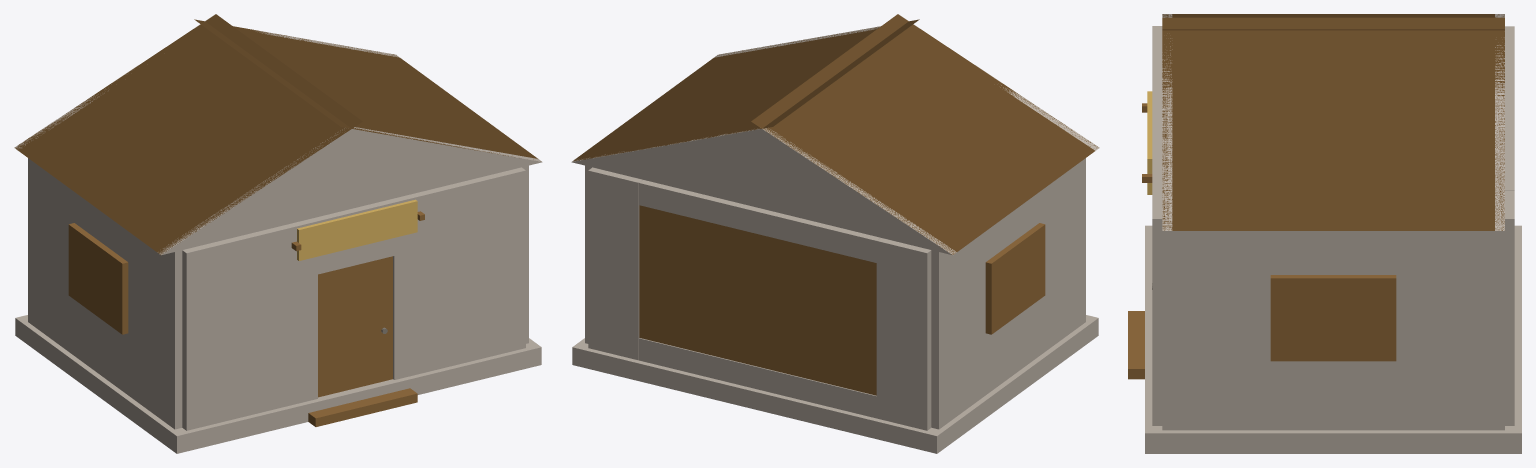
File: Merchant_Shop.fbx
The picture shows the model from 3 angles, left to right: view 1: azimuth 30°, elevation 25°; view 2: azimuth 150°, elevation 25°; view 3: azimuth 270°, elevation 25°; orthographic projection. The views are drawn at different scales.
Parts seen in each view (by area): view 1: Shop_Roof_L, Shop_Wall_F_L, Shop_Wall_F_R, Shop_Wall_L, Shop_Gable_F, Shop_Roof_R, Shop_Foundation, Shop_Door, Shop_Window_SL_Frame, Shop_Sign, Shop_Wall_F_Top, Shop_Step (+2 smaller); view 2: Shop_Roof_L, Shop_Window_B_Frame, Shop_Wall_L, Shop_Gable_B, Shop_Roof_R, Shop_Foundation, Shop_Wall_B_L, Shop_Wall_B_R, Shop_Wall_B_Top, Shop_Wall_B_Bot, Shop_Window_SL_Frame, Shop_Gable_F (+1 smaller); view 3: Shop_Roof_R, Shop_Wall_R, Shop_Foundation, Shop_Window_SR_Frame, Shop_Wall_F_R, Shop_Wall_B_R, Shop_Roof_L, Shop_Gable_B, Shop_Gable_F, Shop_Wall_B_Top, Shop_Step, Shop_Wall_F_L (+2 smaller).
Part boxes in pixels (x1,y1,x2,y2): Shop_Roof_L: [14, 14, 362, 254]; Shop_Wall_F_L: [182, 218, 317, 430]; Shop_Wall_F_R: [390, 167, 525, 379]; Shop_Wall_L: [28, 158, 182, 429]; Shop_Gable_F: [157, 127, 542, 255]; Shop_Roof_R: [194, 19, 541, 161]; Shop_Foundation: [15, 315, 541, 453]; Shop_Door: [318, 256, 392, 397]; Shop_Window_SL_Frame: [68, 223, 128, 334]; Shop_Sign: [297, 199, 417, 260]; Shop_Wall_F_Top: [314, 199, 394, 274]; Shop_Step: [308, 388, 417, 426]; Shop_Roof_L: [751, 14, 1097, 254]; Shop_Window_B_Frame: [639, 205, 876, 395]; Shop_Wall_L: [931, 158, 1085, 429]; Shop_Gable_B: [571, 128, 956, 255]; Shop_Roof_R: [573, 19, 919, 161]; Shop_Foundation: [572, 315, 1098, 453]; Shop_Wall_B_L: [876, 238, 931, 430]; Shop_Wall_B_R: [588, 167, 642, 360]; Shop_Wall_B_Top: [639, 180, 880, 262]; Shop_Wall_B_Bot: [639, 338, 876, 418]; Shop_Window_SL_Frame: [985, 223, 1045, 334]; Shop_Gable_F: [714, 26, 1099, 150]; Shop_Roof_R: [1162, 17, 1504, 230]; Shop_Wall_R: [1162, 231, 1504, 430]; Shop_Foundation: [1145, 225, 1521, 453]; Shop_Window_SR_Frame: [1270, 275, 1396, 361]; Shop_Wall_F_R: [1152, 144, 1162, 425]; Shop_Wall_B_R: [1505, 190, 1514, 425]; Shop_Roof_L: [1162, 14, 1504, 30]; Shop_Gable_B: [1495, 14, 1504, 230]; Shop_Gable_F: [1162, 14, 1172, 230]; Shop_Wall_B_Top: [1505, 55, 1514, 190]; Shop_Step: [1128, 311, 1144, 379]; Shop_Wall_F_L: [1152, 26, 1162, 100].
Bounding box in the file's own units: 900 × 630 × 690.
